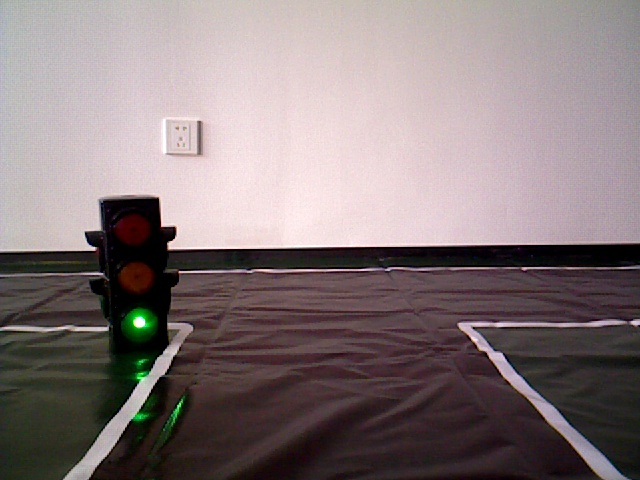green: (103, 204, 165, 344)
